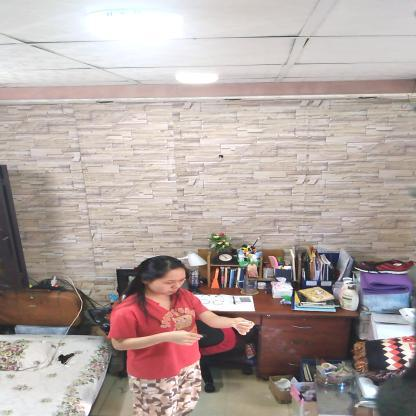cigarette: (230, 321, 252, 324)
person: (107, 254, 210, 415)
smoke: (272, 328, 280, 335), (288, 348, 297, 354)
